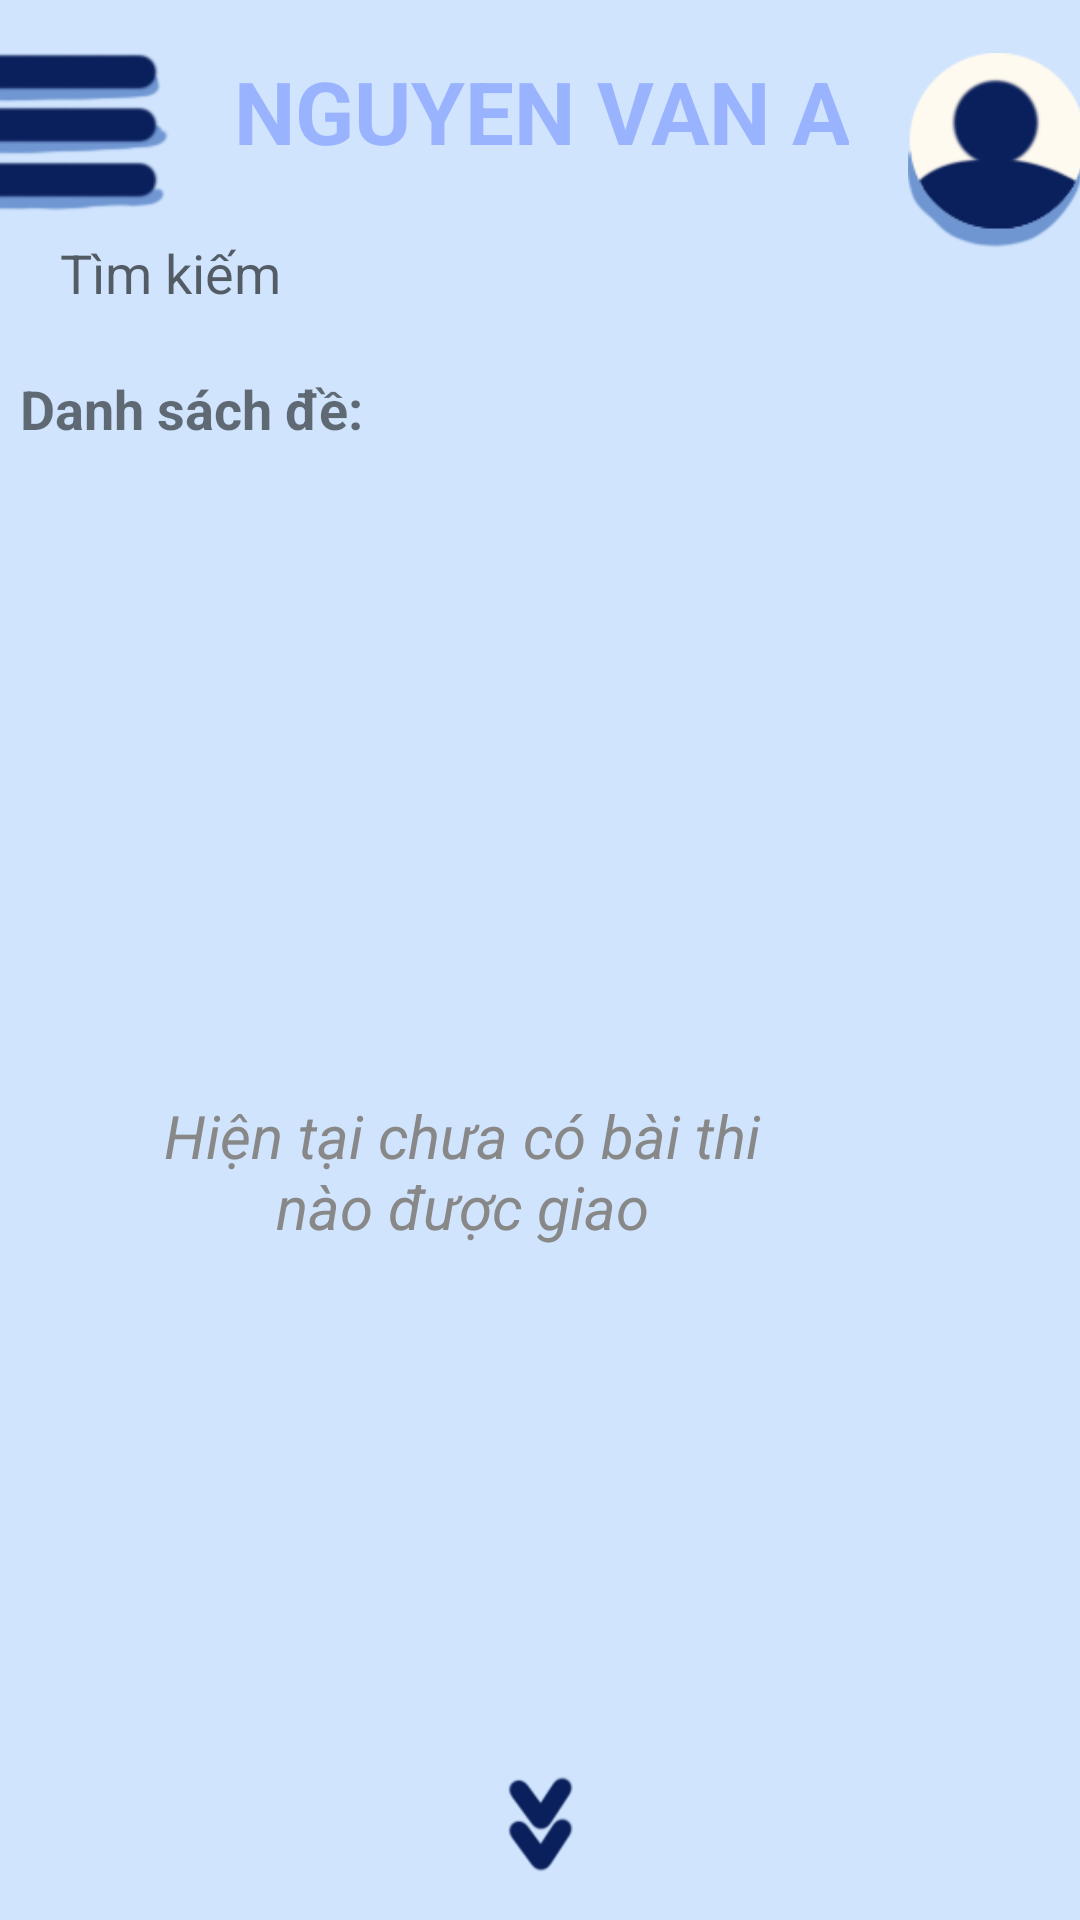

Where icons sit on this 1080×1920 app screen, as (x1, y1, x2, y2):
user: (908, 53, 1080, 247)
Xem thêm: (508, 1777, 573, 1871)
